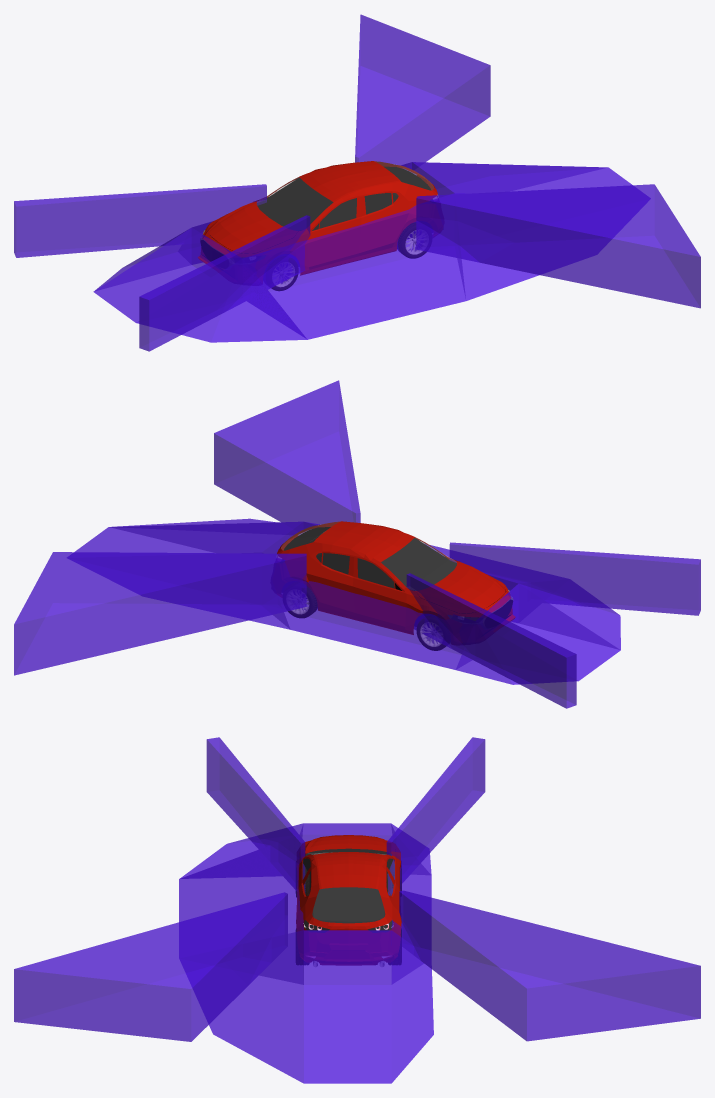
Rendered from mazda3safety.glb.
3 views of the same model, one above another, from view 1: azimuth 30°, elevation 25°; view 2: azimuth 150°, elevation 25°; view 3: azimuth 270°, elevation 25° (orthographic). The views are drawn at different scales.
Parts seen in each view (by area): view 1: Blind, Car body, Cube, Car tire rear; view 2: Blind, Car body, Cube, Car tire front; view 3: Blind, Car body, Cube.
Part boxes in pixels (x1,y1,x2,y2): Blind: (14, 14, 700, 351); Car body: (198, 161, 437, 275); Cube: (212, 166, 431, 250); Car tire rear: (397, 222, 426, 258); Blind: (14, 380, 700, 708); Car body: (277, 521, 515, 634); Cube: (284, 527, 501, 620); Car tire front: (416, 616, 445, 650); Blind: (14, 737, 700, 1083); Car body: (296, 835, 401, 965); Cube: (303, 848, 393, 932).
Bounding box in the file's own units: 22.51 × 2.95 × 23.53.
